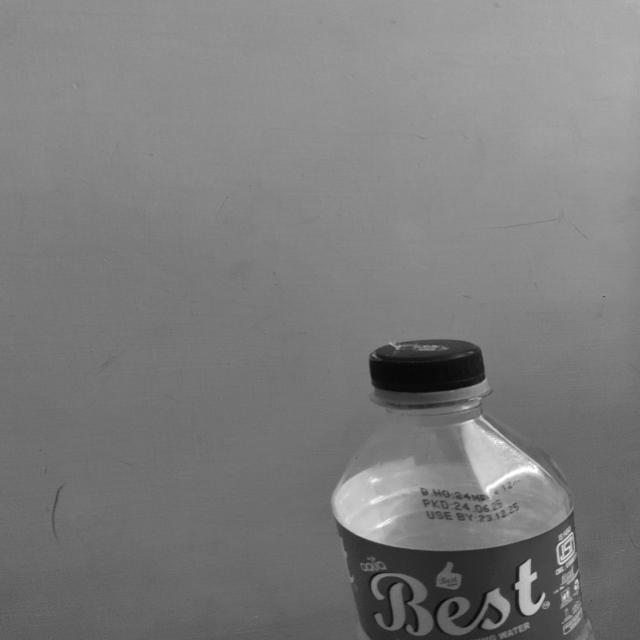Good-cap-Df0S: (360, 340, 493, 405)
